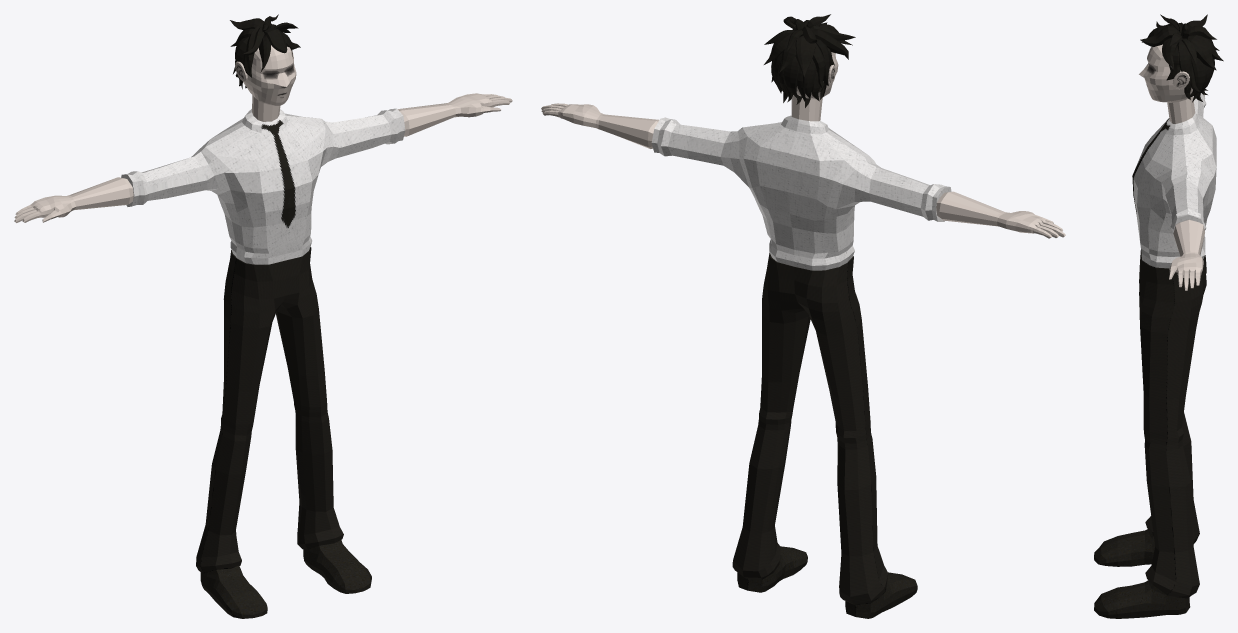
The model's file is RESIZED_Player Mixamo TPose.fbx.
3 renders of one model, left to right at view 1: azimuth 30°, elevation 25°; view 2: azimuth 150°, elevation 25°; view 3: azimuth 270°, elevation 25°, orthographic. The views are drawn at different scales.
Parts seen in each view (by area): view 1: body WHOLE; view 2: body WHOLE; view 3: body WHOLE.
Boxes of the visible parts, x1,y1,x2,y2 form: body WHOLE: (14,14,512,618); body WHOLE: (541,14,1065,618); body WHOLE: (1094,14,1223,618).
Size of the model in its own units: 187 by 200 by 41.75.
1 material, 1 textured.
